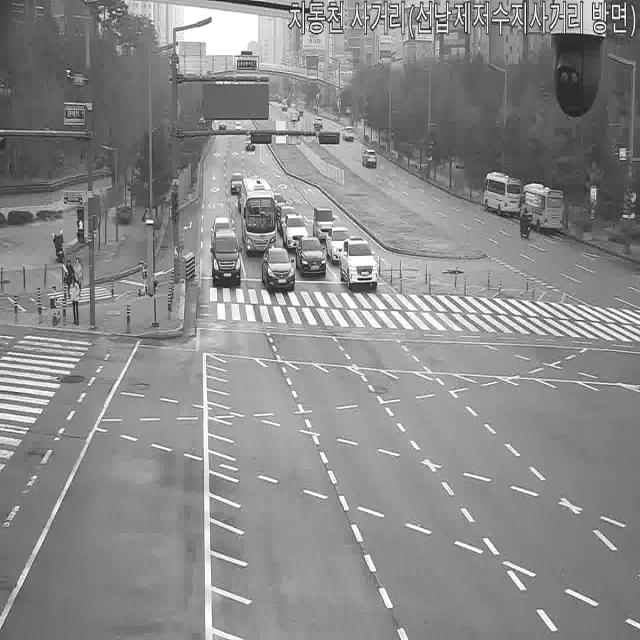Bus: (240, 175, 278, 258), (516, 182, 566, 234), (482, 172, 524, 216)
Car: (339, 237, 378, 289), (210, 230, 242, 286), (261, 248, 296, 294), (296, 235, 326, 278), (282, 214, 310, 252), (326, 224, 352, 264), (312, 206, 337, 243), (210, 216, 236, 250), (236, 179, 260, 215), (276, 206, 298, 237), (266, 192, 288, 222), (229, 172, 246, 195), (361, 148, 377, 167), (243, 132, 255, 152), (342, 125, 355, 142), (312, 119, 323, 135), (288, 110, 299, 124), (280, 98, 288, 110)
Motorcycle: (518, 203, 535, 244)
Truck: (294, 98, 305, 116)
